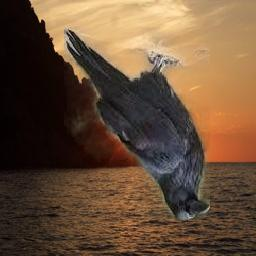Crow: (64, 28, 210, 221)
